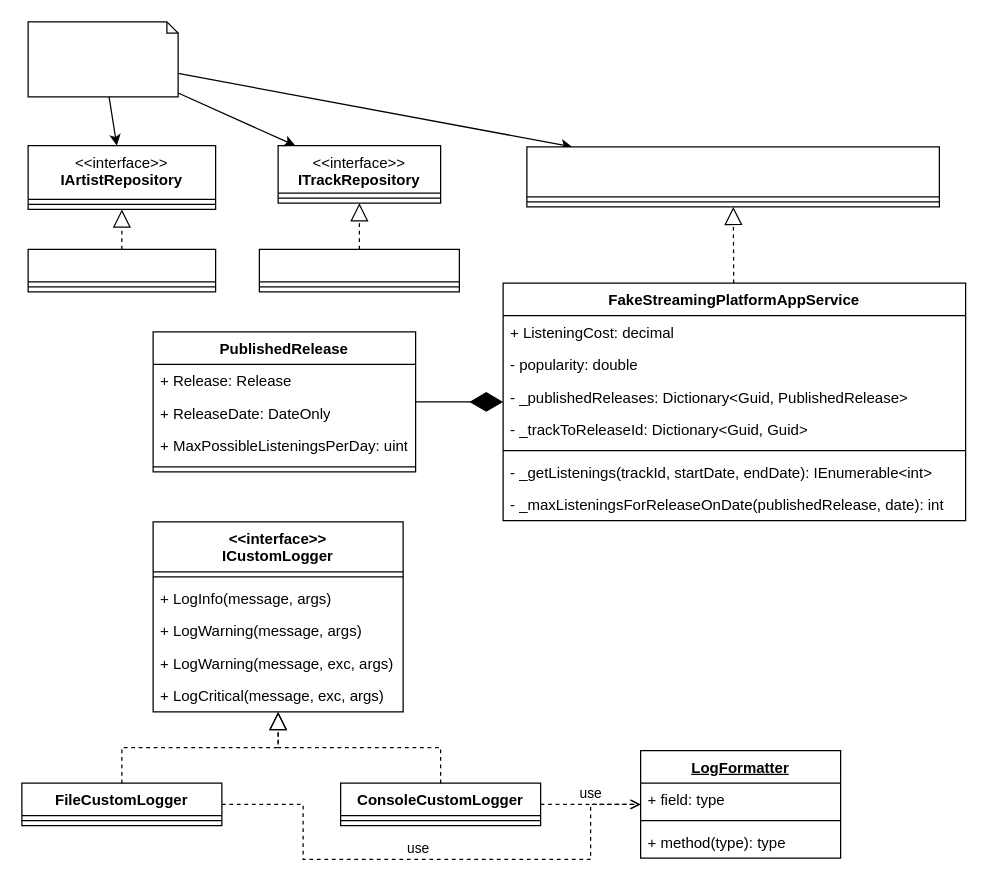
Some shapes in this 988 by 891 pixel diagram are drawn without their labels. Each missing label, with the centre of its shape:
"<<interface>> IStreamingPlatformAppService" goes at point (732, 176).
"ArtistRepository" goes at point (121, 270).
"TrackRepository" goes at point (358, 270).
"См. вкладку Domain" goes at point (102, 59).
